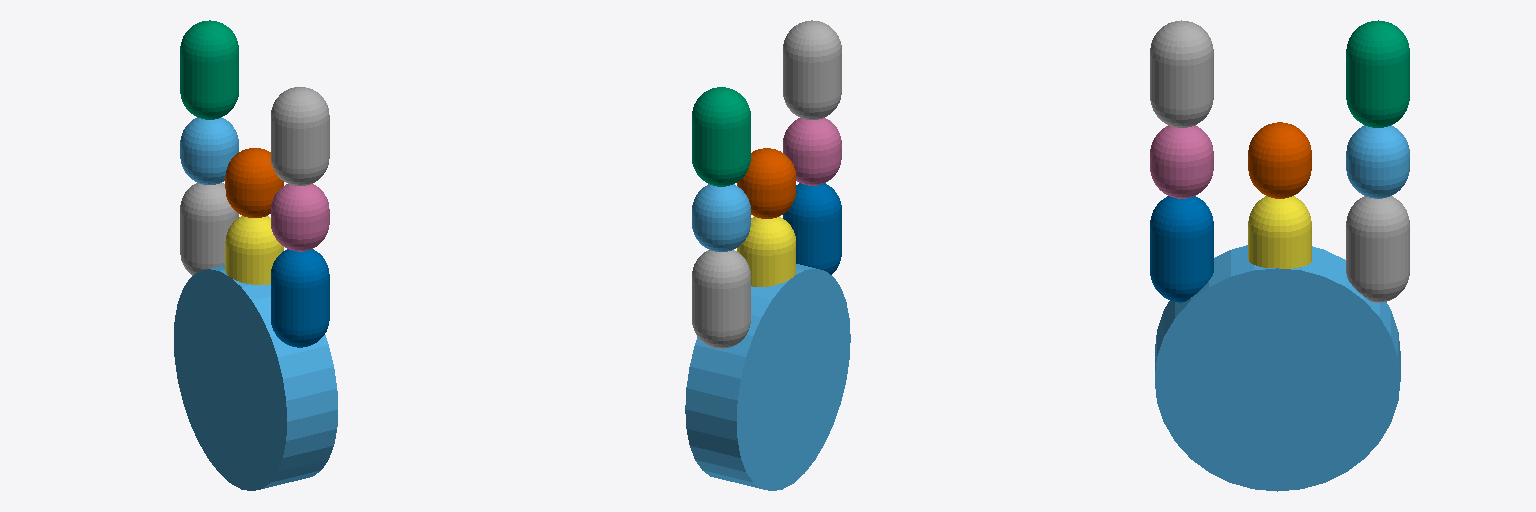
robot.urdf — DexterousHand:
<?xml version="1.0"?>
<robot name="DexterousHand">


    <link name="world"/>
    <joint name="world_to_palm" type="fixed">
        <parent link="world"/>
        <child link="palm"/>
        <origin xyz="0 0 0" rpy="0 0 0"/>
    </joint>
    <link name="palm">
        <inertial>
            <origin xyz="0 0 0.057" rpy="0 0 0"/>
            <mass value="0.30212892864"/>
            <inertia ixx="0.00049080844457568" ixy="0.0" ixz="0.0" iyy="0.00026746366246427523" iyz="0.0" izz="0.00026746366246427523"/>
        </inertial>
        <visual>
            <origin xyz="0 0 0.057" rpy="1.5708 0 1.5708"/>
            <geometry>
                <cylinder radius="0.057" length="0.0296"/>
            </geometry>
            <material name="default"/>
        </visual>
        <collision>
            <origin xyz="0 0 0.057" rpy="1.5708 0 1.5708"/>
            <geometry>
                <cylinder radius="0.057" length="0.0296"/>
            </geometry>
        </collision>
    </link>

    
    <joint name="thumb_joint1" type="revolute">
        <parent link="palm"/>
        <child link="thumb_base"/>
        <origin xyz="0.0 0.0 0.0" rpy="0.0 0.0 0.0"/>
        <axis xyz="1 0 0"/>
        <limit lower="0.0" upper="0.0" effort="1.0" velocity="1.0"/>
    </joint>

    <link name="thumb_base"></link>

    <joint name="thumb_joint2" type="revolute">
        <parent link="thumb_base"/>
        <child link="thumb_proximal"/>
        <origin xyz="0.0 0.0 0.0" rpy="0.0 0.0 0.0"/>
        <axis xyz="0 1 0"/>
        <limit lower="0.0" upper="0.0" effort="1.0" velocity="1.0"/>
    </joint>

    <link name="thumb_proximal">
    </link>

    <joint name="thumb_joint3" type="revolute">
        <parent link="thumb_proximal"/>
        <child link="thumb_knuckle"/>
        <origin xyz="0.0 0.0 0.0" rpy="0.0 0.0 0.0"/>
        <axis xyz="1 0 0"/>
        <limit lower="0.0" upper="0.0" effort="1.0" velocity="1.0"/>
    </joint>

    <link name="thumb_knuckle"></link>

    <joint name="thumb_joint4" type="revolute">
        <parent link="thumb_knuckle"/>
        <child link="thumb_middle"/>
        <origin xyz="0 0 0" rpy="0 0 0"/> 
        <axis xyz="0 1 0"/>
        <limit lower="0.0" upper="0.0" effort="1.0" velocity="1.0"/>
    </joint>

    <link name="thumb_middle">
    </link>

    <joint name="thumb_joint5" type="revolute">
        <parent link="thumb_middle"/>
        <child link="thumb_distal"/>
        <origin xyz="0 0 0" rpy="0 0 0"/> 
        <axis xyz="0 1 0"/>
        <limit lower="0.0" upper="0.0" effort="1.0" velocity="1.0"/>
    </joint>

    <link name="thumb_distal">
    </link>

    
    <joint name="index_joint1" type="revolute">
        <parent link="palm"/>
        <child link="index_proximal"/>
        <origin xyz="0.0 0.0465 0.091" rpy="0.0 0.0 0.0"/>
        <axis xyz="0 1 0"/>
        <limit lower="-0.314" upper="2.23" effort="1.0" velocity="1.0"/>
    </joint>

    <link name="index_proximal">
        <inertial>
            <origin xyz="0 0 0.02655" rpy="0 0 0"/>
            <mass value="0.036540024998400006"/>
            <inertia ixx="1.058665009272394e-05" ixy="0.0" ixz="0.0" 
            iyy="1.058665009272394e-05" iyz="0.0" izz="4.001863537824769e-06"/>
        </inertial>
        <visual>
            <origin xyz="0 0 0.02655" rpy="0 0 0"/>
            <geometry>
                <cylinder radius="0.0148" length="0.0235"/>
            </geometry>
            <material name="default"/>
        </visual>
        <visual>
            <origin xyz="0 0 0.0148" rpy="0 0 0"/>
            <geometry>
                <sphere radius="0.0148"/>
            </geometry>
            <material name="default"/>
        </visual>
        <visual>
            <origin xyz="0 0 0.0383" rpy="0 0 0"/>
            <geometry>
                <sphere radius="0.0148"/>
            </geometry>
            <material name="default"/>
        </visual>
        <collision>
            <origin xyz="0 0 0.02655" rpy="0 0 0"/>
            <geometry>
                <cylinder radius="0.0148" length="0.0235"/>
            </geometry>
        </collision>
        <collision>
            <origin xyz="0 0 0.0148" rpy="0 0 0"/>
            <geometry>
                <sphere radius="0.0148"/>
            </geometry>
        </collision>
        <collision>
            <origin xyz="0 0 0.0383" rpy="0 0 0"/>
            <geometry>
                <sphere radius="0.0148"/>
            </geometry>
        </collision>
    </link>

    <joint name="index_joint2" type="revolute">
        <parent link="index_proximal"/>
        <child link="index_dummy"/>
        <origin xyz="0.0 0.0 0.038" rpy="0.0 0.0 0.0"/>
        <axis xyz="1 0 0"/>
        <limit lower="-1.047" upper="1.047" effort="1.0" velocity="1.0"/>
    </joint>

    <link name="index_dummy"></link>

    <joint name="index_joint3" type="revolute">
        <parent link="index_dummy"/>
        <child link="index_middle"/>
        <origin xyz="0 0 0.015100000000000002" rpy="0 0 0"/>
        <axis xyz="0 1 0"/>
        <limit lower="-0.506" upper="1.885" effort="1.0" velocity="1.0"/>
    </joint>

    <link name="index_middle">
        <inertial>
            <origin xyz="0 0 0.01805" rpy="0 0 0"/>
            <mass value="0.0248417119104"/>
            <inertia ixx="4.058162759109537e-06" ixy="0.0" ixz="0.0" 
            iyy="4.058162759109537e-06" iyz="0.0" izz="2.7206642884270085e-06"/>
        </inertial>
        <visual>
            <origin xyz="0 0 0.01805" rpy="0 0 0"/>
            <geometry>
                <cylinder radius="0.0148" length="0.006499999999999999"/>
            </geometry>
            <material name="default"/>
        </visual>
        <visual>
            <origin xyz="0 0 0.0148" rpy="0 0 0"/>
            <geometry>
                <sphere radius="0.0148"/>
            </geometry>
            <material name="default"/>
        </visual>
        <visual>
            <origin xyz="0 0 0.0213" rpy="0 0 0"/>
            <geometry>
                <sphere radius="0.0148"/>
            </geometry>
            <material name="default"/>
        </visual>
        <collision>
            <origin xyz="0 0 0.01805" rpy="0 0 0"/>
            <geometry>
                <cylinder radius="0.0148" length="0.006499999999999999"/>
            </geometry>
        </collision>
        <collision>
            <origin xyz="0 0 0.0148" rpy="0 0 0"/>
            <geometry>
                <sphere radius="0.0148"/>
            </geometry>
        </collision>
        <collision>
            <origin xyz="0 0 0.0213" rpy="0 0 0"/>
            <geometry>
                <sphere radius="0.0148"/>
            </geometry>
        </collision>
    </link>

    <joint name="index_joint4" type="revolute">
        <parent link="index_middle"/>
        <child link="index_distal"/>
        <origin xyz="0 0 0.0361" rpy="0 0 0"/> 
        <axis xyz="0 1 0"/>
        <limit lower="-0.366" upper="2.042" effort="1.0" velocity="1.0"/>
    </joint>

    <link name="index_distal">
        <inertial>
            <origin xyz="0 0 0.026" rpy="0 0 0"/>
            <mass value="0.035783075328"/>
            <inertia ixx="1.002260084553728e-05" ixy="0.0" ixz="0.0" 
            iyy="1.002260084553728e-05" iyz="0.0" izz="3.91896240992256e-06"/>
        </inertial>
        <visual>
            <origin xyz="0 0 0.026" rpy="0 0 0"/>
            <geometry>
                <cylinder radius="0.0148" length="0.022399999999999996"/>
            </geometry>
            <material name="default"/>
        </visual>
        <visual>
            <origin xyz="0 0 0.0148" rpy="0 0 0"/>
            <geometry>
                <sphere radius="0.0148"/>
            </geometry>
            <material name="default"/>
        </visual>
        <visual>
            <origin xyz="0 0 0.0372" rpy="0 0 0"/>
            <geometry>
                <sphere radius="0.0148"/>
            </geometry>
            <material name="default"/>
        </visual>
        <collision>
            <origin xyz="0 0 0.026" rpy="0 0 0"/>
            <geometry>
                <cylinder radius="0.0148" length="0.022399999999999996"/>
            </geometry>
        </collision>
        <collision>
            <origin xyz="0 0 0.0148" rpy="0 0 0"/>
            <geometry>
                <sphere radius="0.0148"/>
            </geometry>
        </collision>
        <collision>
            <origin xyz="0 0 0.0372" rpy="0 0 0"/>
            <geometry>
                <sphere radius="0.0148"/>
            </geometry>
        </collision>
    </link>

    
    <joint name="middle_joint1" type="revolute">
        <parent link="palm"/>
        <child link="middle_proximal"/>
        <origin xyz="0.0 0.0011 0.091" rpy="0.0 0.0 0.0"/>
        <axis xyz="0 1 0"/>
        <limit lower="-0.314" upper="2.23" effort="1.0" velocity="1.0"/>
    </joint>

    <link name="middle_proximal">
        <inertial>
            <origin xyz="0 0 0.02655" rpy="0 0 0"/>
            <mass value="0.036540024998400006"/>
            <inertia ixx="1.058665009272394e-05" ixy="0.0" ixz="0.0" 
            iyy="1.058665009272394e-05" iyz="0.0" izz="4.001863537824769e-06"/>
        </inertial>
        <visual>
            <origin xyz="0 0 0.02655" rpy="0 0 0"/>
            <geometry>
                <cylinder radius="0.0148" length="0.0235"/>
            </geometry>
            <material name="default"/>
        </visual>
        <visual>
            <origin xyz="0 0 0.0148" rpy="0 0 0"/>
            <geometry>
                <sphere radius="0.0148"/>
            </geometry>
            <material name="default"/>
        </visual>
        <visual>
            <origin xyz="0 0 0.0383" rpy="0 0 0"/>
            <geometry>
                <sphere radius="0.0148"/>
            </geometry>
            <material name="default"/>
        </visual>
        <collision>
            <origin xyz="0 0 0.02655" rpy="0 0 0"/>
            <geometry>
                <cylinder radius="0.0148" length="0.0235"/>
            </geometry>
        </collision>
        <collision>
            <origin xyz="0 0 0.0148" rpy="0 0 0"/>
            <geometry>
                <sphere radius="0.0148"/>
            </geometry>
        </collision>
        <collision>
            <origin xyz="0 0 0.0383" rpy="0 0 0"/>
            <geometry>
                <sphere radius="0.0148"/>
            </geometry>
        </collision>
    </link>

    <joint name="middle_joint2" type="revolute">
        <parent link="middle_proximal"/>
        <child link="middle_dummy"/>
        <origin xyz="0.0 0.0 0.038" rpy="0.0 0.0 0.0"/>
        <axis xyz="1 0 0"/>
        <limit lower="-1.047" upper="1.047" effort="1.0" velocity="1.0"/>
    </joint>

    <link name="middle_dummy"></link>

    <joint name="middle_joint3" type="revolute">
        <parent link="middle_dummy"/>
        <child link="middle_middle"/>
        <origin xyz="0 0 0.015100000000000002" rpy="0 0 0"/>
        <axis xyz="0 1 0"/>
        <limit lower="-0.506" upper="1.885" effort="1.0" velocity="1.0"/>
    </joint>

    <link name="middle_middle">
        <inertial>
            <origin xyz="0 0 0.01805" rpy="0 0 0"/>
            <mass value="0.0248417119104"/>
            <inertia ixx="4.058162759109537e-06" ixy="0.0" ixz="0.0" 
            iyy="4.058162759109537e-06" iyz="0.0" izz="2.7206642884270085e-06"/>
        </inertial>
        <visual>
            <origin xyz="0 0 0.01805" rpy="0 0 0"/>
            <geometry>
                <cylinder radius="0.0148" length="0.006499999999999999"/>
            </geometry>
            <material name="default"/>
        </visual>
        <visual>
            <origin xyz="0 0 0.0148" rpy="0 0 0"/>
            <geometry>
                <sphere radius="0.0148"/>
            </geometry>
            <material name="default"/>
        </visual>
        <visual>
            <origin xyz="0 0 0.0213" rpy="0 0 0"/>
            <geometry>
                <sphere radius="0.0148"/>
            </geometry>
            <material name="default"/>
        </visual>
        <collision>
            <origin xyz="0 0 0.01805" rpy="0 0 0"/>
            <geometry>
                <cylinder radius="0.0148" length="0.006499999999999999"/>
            </geometry>
        </collision>
        <collision>
            <origin xyz="0 0 0.0148" rpy="0 0 0"/>
            <geometry>
                <sphere radius="0.0148"/>
            </geometry>
        </collision>
        <collision>
            <origin xyz="0 0 0.0213" rpy="0 0 0"/>
            <geometry>
                <sphere radius="0.0148"/>
            </geometry>
        </collision>
    </link>

    <joint name="middle_joint4" type="revolute">
        <parent link="middle_middle"/>
        <child link="middle_distal"/>
        <origin xyz="0 0 0.0361" rpy="0 0 0"/> 
        <axis xyz="0 1 0"/>
        <limit lower="0.0" upper="0.0" effort="1.0" velocity="1.0"/>
    </joint>

    <link name="middle_distal">
    </link>

    
    <joint name="ring_joint1" type="revolute">
        <parent link="palm"/>
        <child link="ring_proximal"/>
        <origin xyz="0.0 0.0 0.0" rpy="0.0 0.0 0.0"/>
        <axis xyz="1 0 0"/>
        <limit lower="0.0" upper="0.0" effort="1.0" velocity="1.0"/>
    </joint>

    <link name="ring_proximal">
    </link>

    <joint name="ring_joint2" type="revolute">
        <parent link="ring_proximal"/>
        <child link="ring_dummy"/>
        <origin xyz="0.0 0.0 0.0" rpy="0.0 0.0 0.0"/>
        <axis xyz="0 1 0"/>
        <limit lower="0.0" upper="0.0" effort="1.0" velocity="1.0"/>
    </joint>

    <link name="ring_dummy"></link>

    <joint name="ring_joint3" type="revolute">
        <parent link="ring_dummy"/>
        <child link="ring_middle"/>
        <origin xyz="0 0 0" rpy="0 0 0"/>
        <axis xyz="0 1 0"/>
        <limit lower="0.0" upper="0.0" effort="1.0" velocity="1.0"/>
    </joint>

    <link name="ring_middle">
    </link>

    <joint name="ring_joint4" type="revolute">
        <parent link="ring_middle"/>
        <child link="ring_distal"/>
        <origin xyz="0 0 0" rpy="0 0 0"/> 
        <axis xyz="0 1 0"/>
        <limit lower="0.0" upper="0.0" effort="1.0" velocity="1.0"/>
    </joint>

    <link name="ring_distal">
    </link>

    
    <joint name="little_joint0" type="revolute">
        <parent link="palm"/>
        <child link="little_base"/>
        <origin xyz="0.0 0.0 0.0" rpy="0.0 0.0 0.0"/>
        <axis xyz="0 1 0"/>
        <limit lower="0.0" upper="0.0" effort="1.0" velocity="1.0"/>
    </joint>

    <link name="little_base"></link>

    <joint name="little_joint1" type="revolute">
        <parent link="little_base"/>
        <child link="little_proximal"/>
        <origin xyz="0.0 -0.0443 0.091" rpy="-0.0 -0.0 -0.0"/>
        <axis xyz="0 1 0"/>
        <limit lower="-0.314" upper="2.23" effort="1.0" velocity="1.0"/>
    </joint>

    <link name="little_proximal">
        <inertial>
            <origin xyz="0 0 0.02655" rpy="0 0 0"/>
            <mass value="0.036540024998400006"/>
            <inertia ixx="1.058665009272394e-05" ixy="0.0" ixz="0.0" 
            iyy="1.058665009272394e-05" iyz="0.0" izz="4.001863537824769e-06"/>
        </inertial>
        <visual>
            <origin xyz="0 0 0.02655" rpy="0 0 0"/>
            <geometry>
                <cylinder radius="0.0148" length="0.0235"/>
            </geometry>
            <material name="default"/>
        </visual>
        <visual>
            <origin xyz="0 0 0.0148" rpy="0 0 0"/>
            <geometry>
                <sphere radius="0.0148"/>
            </geometry>
            <material name="default"/>
        </visual>
        <visual>
            <origin xyz="0 0 0.0383" rpy="0 0 0"/>
            <geometry>
                <sphere radius="0.0148"/>
            </geometry>
            <material name="default"/>
        </visual>
        <collision>
            <origin xyz="0 0 0.02655" rpy="0 0 0"/>
            <geometry>
                <cylinder radius="0.0148" length="0.0235"/>
            </geometry>
        </collision>
        <collision>
            <origin xyz="0 0 0.0148" rpy="0 0 0"/>
            <geometry>
                <sphere radius="0.0148"/>
            </geometry>
        </collision>
        <collision>
            <origin xyz="0 0 0.0383" rpy="0 0 0"/>
            <geometry>
                <sphere radius="0.0148"/>
            </geometry>
        </collision>
    </link>

    <joint name="little_joint2" type="revolute">
        <parent link="little_proximal"/>
        <child link="little_dummy"/>
        <origin xyz="0.0 0.0 0.038" rpy="0.0 0.0 0.0"/>
        <axis xyz="1 0 0"/>
        <limit lower="-1.047" upper="1.047" effort="1.0" velocity="1.0"/>
    </joint>

    <link name="little_dummy"></link>

    <joint name="little_joint3" type="revolute">
        <parent link="little_dummy"/>
        <child link="little_middle"/>
        <origin xyz="0 0 0.015100000000000002" rpy="0 0 0"/>
        <axis xyz="0 1 0"/>
        <limit lower="-0.506" upper="1.885" effort="1.0" velocity="1.0"/>
    </joint>

    <link name="little_middle">
        <inertial>
            <origin xyz="0 0 0.01805" rpy="0 0 0"/>
            <mass value="0.0248417119104"/>
            <inertia ixx="4.058162759109537e-06" ixy="0.0" ixz="0.0" 
            iyy="4.058162759109537e-06" iyz="0.0" izz="2.7206642884270085e-06"/>
        </inertial>
        <visual>
            <origin xyz="0 0 0.01805" rpy="0 0 0"/>
            <geometry>
                <cylinder radius="0.0148" length="0.006499999999999999"/>
            </geometry>
            <material name="default"/>
        </visual>
        <visual>
            <origin xyz="0 0 0.0148" rpy="0 0 0"/>
            <geometry>
                <sphere radius="0.0148"/>
            </geometry>
            <material name="default"/>
        </visual>
        <visual>
            <origin xyz="0 0 0.0213" rpy="0 0 0"/>
            <geometry>
                <sphere radius="0.0148"/>
            </geometry>
            <material name="default"/>
        </visual>
        <collision>
            <origin xyz="0 0 0.01805" rpy="0 0 0"/>
            <geometry>
                <cylinder radius="0.0148" length="0.006499999999999999"/>
            </geometry>
        </collision>
        <collision>
            <origin xyz="0 0 0.0148" rpy="0 0 0"/>
            <geometry>
                <sphere radius="0.0148"/>
            </geometry>
        </collision>
        <collision>
            <origin xyz="0 0 0.0213" rpy="0 0 0"/>
            <geometry>
                <sphere radius="0.0148"/>
            </geometry>
        </collision>
    </link>

    <joint name="little_joint4" type="revolute">
        <parent link="little_middle"/>
        <child link="little_distal"/>
        <origin xyz="0 0 0.0361" rpy="0 0 0"/>
        <axis xyz="0 1 0"/>
        <limit lower="-0.366" upper="2.042" effort="1.0" velocity="1.0"/>
    </joint>

    <link name="little_distal">
        <inertial>
            <origin xyz="0 0 0.026" rpy="0 0 0"/>
            <mass value="0.035783075328"/>
            <inertia ixx="1.002260084553728e-05" ixy="0.0" ixz="0.0" 
            iyy="1.002260084553728e-05" iyz="0.0" izz="3.91896240992256e-06"/>
        </inertial>
        <visual>
            <origin xyz="0 0 0.026" rpy="0 0 0"/>
            <geometry>
                <cylinder radius="0.0148" length="0.022399999999999996"/>
            </geometry>
            <material name="default"/>
        </visual>
        <visual>
            <origin xyz="0 0 0.0148" rpy="0 0 0"/>
            <geometry>
                <sphere radius="0.0148"/>
            </geometry>
            <material name="default"/>
        </visual>
        <visual>
            <origin xyz="0 0 0.0372" rpy="0 0 0"/>
            <geometry>
                <sphere radius="0.0148"/>
            </geometry>
            <material name="default"/>
        </visual>
        <collision>
            <origin xyz="0 0 0.026" rpy="0 0 0"/>
            <geometry>
                <cylinder radius="0.0148" length="0.022399999999999996"/>
            </geometry>
        </collision>
        <collision>
            <origin xyz="0 0 0.0148" rpy="0 0 0"/>
            <geometry>
                <sphere radius="0.0148"/>
            </geometry>
        </collision>
        <collision>
            <origin xyz="0 0 0.0372" rpy="0 0 0"/>
            <geometry>
                <sphere radius="0.0148"/>
            </geometry>
        </collision>
    </link>

</robot>

--- Facts derived from the render (not from the file) ---
The picture shows the robot from 3 angles, left to right: view 1: azimuth 30°, elevation 25°; view 2: azimuth 150°, elevation 25°; view 3: azimuth 270°, elevation 25°; orthographic projection.
Robot: DexterousHand — 24 links, 23 joints (22 revolute, 1 fixed); root link world; default pose: all joints at 0.
Visible links, largest first — view 1: palm, little_proximal, little_distal, index_distal, index_proximal, little_middle, index_middle, middle_proximal, middle_middle; view 2: palm, index_proximal, index_distal, little_distal, little_proximal, index_middle, little_middle, middle_proximal, middle_middle; view 3: palm, index_distal, little_distal, index_proximal, little_proximal, middle_proximal, middle_middle, index_middle, little_middle.
Boxes of the visible links, x1=… form: palm: x1=174, y1=265, x2=337, y2=490; little_proximal: x1=271, y1=249, x2=329, y2=347; little_distal: x1=271, y1=87, x2=329, y2=185; index_distal: x1=180, y1=20, x2=238, y2=119; index_proximal: x1=180, y1=183, x2=238, y2=275; little_middle: x1=271, y1=184, x2=329, y2=251; index_middle: x1=180, y1=117, x2=238, y2=184; middle_proximal: x1=225, y1=216, x2=283, y2=284; middle_middle: x1=225, y1=148, x2=283, y2=217; palm: x1=685, y1=264, x2=850, y2=490; index_proximal: x1=692, y1=250, x2=750, y2=348; index_distal: x1=692, y1=87, x2=750, y2=186; little_distal: x1=783, y1=20, x2=841, y2=119; little_proximal: x1=783, y1=183, x2=841, y2=274; index_middle: x1=692, y1=184, x2=750, y2=251; little_middle: x1=783, y1=118, x2=841, y2=185; middle_proximal: x1=737, y1=216, x2=795, y2=286; middle_middle: x1=737, y1=148, x2=795, y2=218; palm: x1=1155, y1=245, x2=1400, y2=491; index_distal: x1=1346, y1=20, x2=1409, y2=127; little_distal: x1=1150, y1=20, x2=1213, y2=127; index_proximal: x1=1346, y1=196, x2=1409, y2=302; little_proximal: x1=1150, y1=196, x2=1213, y2=302; middle_proximal: x1=1248, y1=196, x2=1311, y2=268; middle_middle: x1=1248, y1=122, x2=1311, y2=198; index_middle: x1=1346, y1=125, x2=1409, y2=198; little_middle: x1=1150, y1=125, x2=1213, y2=198.
Size in the robot's own frame: 0.0296 by 0.1204 by 0.2322 metres.
Geometry: primitives only (box / cylinder / sphere), no mesh files.
